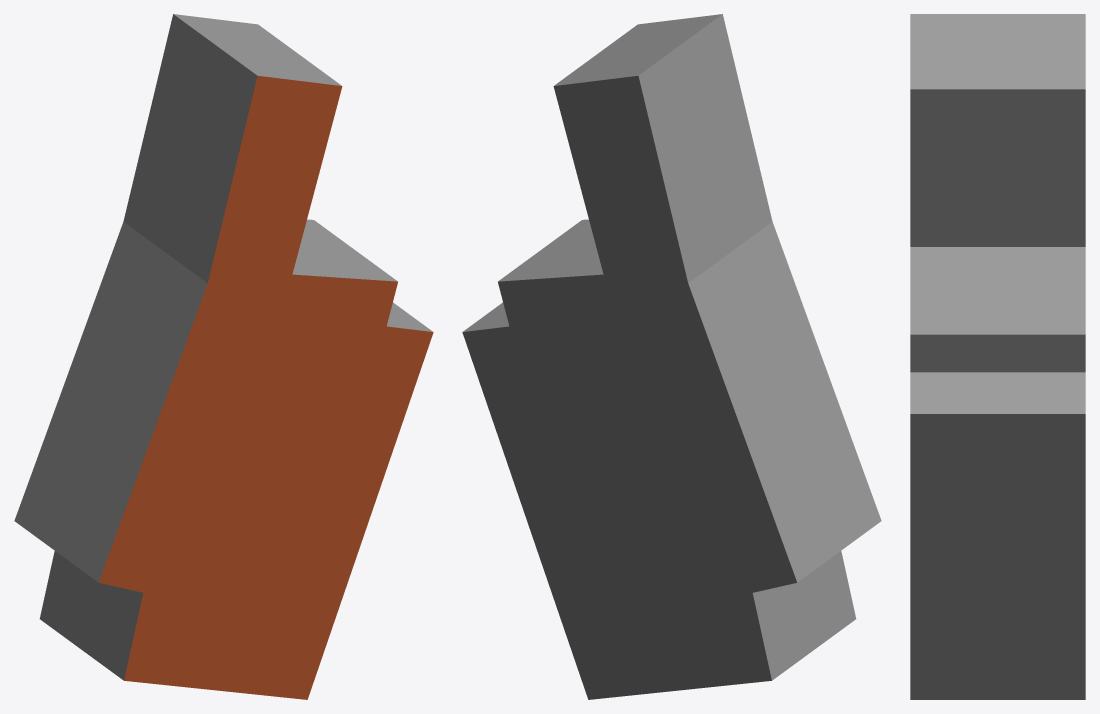
Rendered from construction_5275_assumed_A_Casa_h6m.obj.
The picture shows the model from 3 angles, left to right: view 1: azimuth 30°, elevation 25°; view 2: azimuth 150°, elevation 25°; view 3: azimuth 270°, elevation 25°; orthographic projection. The views are drawn at different scales.
Visible parts, largest first — view 1: construction_5275_assumed_A_Casa; view 2: construction_5275_assumed_A_Casa; view 3: construction_5275_assumed_A_Casa.
Boxes of the visible parts, x1,y1,x2,y2 form: construction_5275_assumed_A_Casa: (14,14,433,699); construction_5275_assumed_A_Casa: (462,14,881,699); construction_5275_assumed_A_Casa: (910,14,1085,699).
Bounding box in the file's own units: 13.76 × 24.98 × 6.
